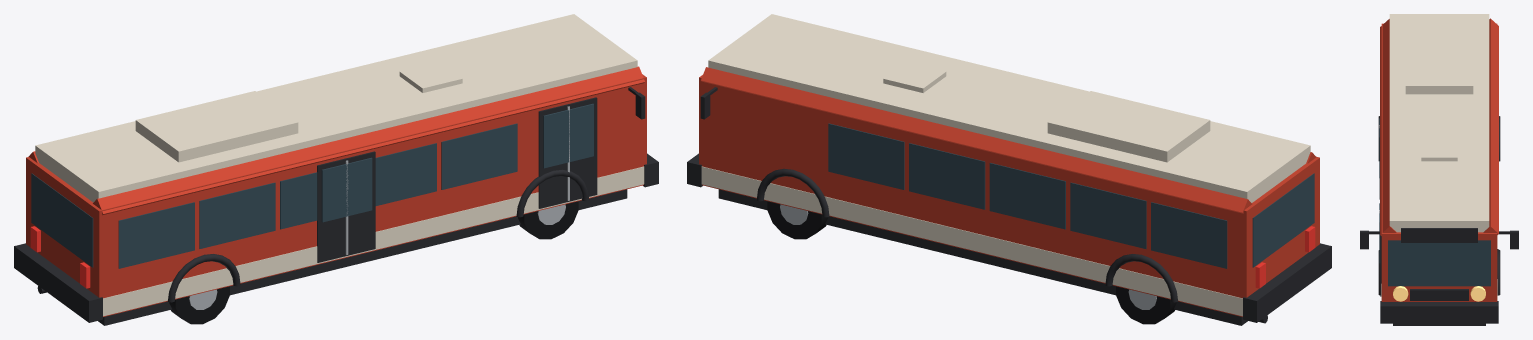
Rendered from bus.glb.
The picture shows the model from 3 angles, left to right: view 1: azimuth 30°, elevation 25°; view 2: azimuth 150°, elevation 25°; view 3: azimuth 270°, elevation 25°; orthographic projection. The views are drawn at different scales.
Parts seen in each view (by area): view 1: roof_cap, body_shell, roof_chamfer_l, skirt_band, roof_ac_unit, chassis, window_left_1, window_left_2, window_left_5, rear_window, door_frame_2, window_left_4 (+10 smaller); view 2: body_shell, roof_cap, skirt_band, roof_chamfer_r, roof_ac_unit, chassis, window_right_1, window_right_2, window_right_3, window_right_4, window_right_5, rear_window (+6 smaller); view 3: roof_cap, windshield, roof_ac_unit, front_bumper, body_shell, roof_chamfer_r, roof_chamfer_l, destination_sign, roof_hatch, front_grille, chassis, headlight_1 (+4 smaller).
Boxes of the visible parts, x1,y1,x2,y2 form: roof_cap: [35, 14, 637, 202]; body_shell: [26, 74, 646, 316]; roof_chamfer_l: [93, 66, 644, 215]; skirt_band: [103, 166, 644, 316]; roof_ac_unit: [135, 91, 298, 162]; chassis: [98, 189, 627, 325]; window_left_1: [118, 202, 194, 268]; window_left_2: [199, 182, 275, 248]; window_left_5: [441, 123, 517, 189]; rear_window: [31, 173, 93, 267]; door_frame_2: [317, 151, 375, 262]; window_left_4: [375, 143, 436, 205]; body_shell: [699, 75, 1319, 316]; roof_cap: [708, 14, 1310, 202]; skirt_band: [701, 166, 1242, 316]; roof_chamfer_r: [701, 67, 1252, 213]; roof_ac_unit: [1047, 91, 1210, 162]; chassis: [718, 189, 1247, 325]; window_right_1: [1151, 202, 1227, 268]; window_right_2: [1070, 182, 1146, 248]; window_right_3: [989, 163, 1065, 229]; window_right_4: [909, 143, 985, 209]; window_right_5: [828, 123, 904, 189]; rear_window: [1252, 173, 1314, 267]; roof_cap: [1389, 14, 1489, 232]; windshield: [1388, 240, 1490, 286]; roof_ac_unit: [1405, 40, 1473, 94]; front_bumper: [1380, 301, 1498, 323]; body_shell: [1381, 23, 1497, 301]; roof_chamfer_r: [1483, 18, 1498, 234]; roof_chamfer_l: [1380, 19, 1396, 235]; destination_sign: [1401, 228, 1477, 242]; roof_hatch: [1421, 142, 1457, 161]; front_grille: [1410, 289, 1468, 300]; chassis: [1393, 323, 1485, 325]; headlight_1: [1393, 286, 1408, 301].
Size of the model in its own units: 11.44 by 3.16 by 3.51.
